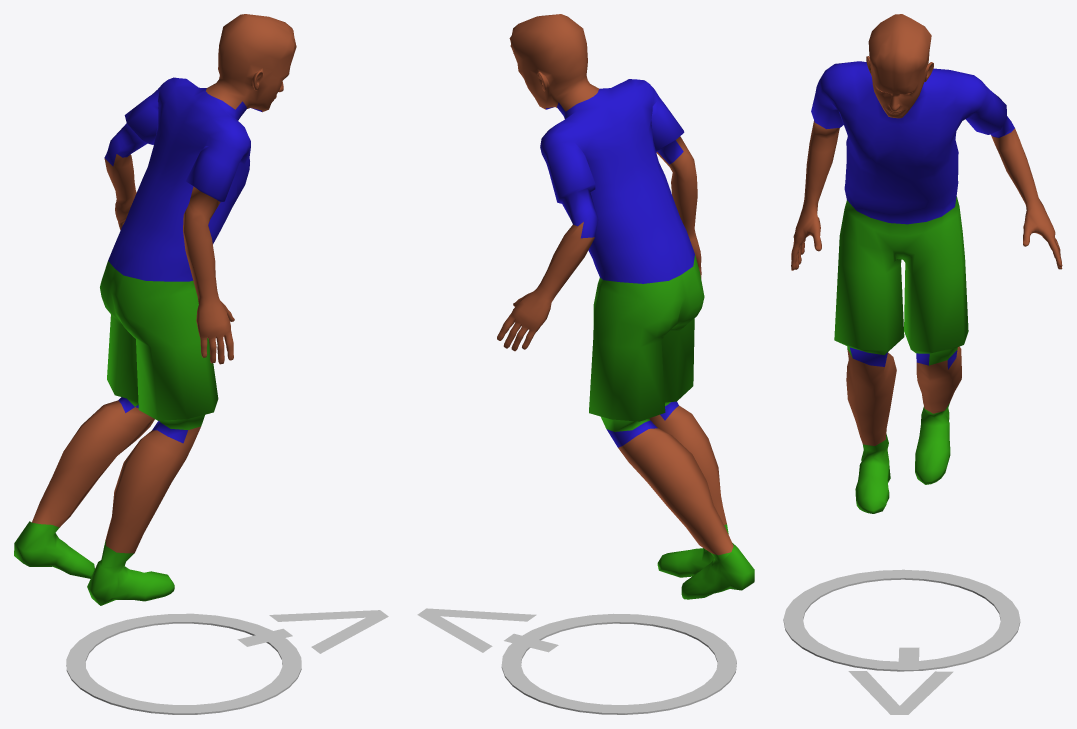
The model's file is playerAI_000005.obj.
The picture shows the model from 3 angles, left to right: view 1: azimuth 30°, elevation 25°; view 2: azimuth 150°, elevation 25°; view 3: azimuth 270°, elevation 25°; orthographic projection.
Visible parts, largest first — view 1: soccerplayer.003_mesh.002, Circle.001, Text_Mesh; view 2: soccerplayer.003_mesh.002, Circle.001, Text_Mesh; view 3: soccerplayer.003_mesh.002, Circle.001, Text_Mesh.
Boxes of the visible parts, x1=… form: soccerplayer.003_mesh.002: x1=14, y1=14, x2=296, y2=605; Circle.001: x1=66, y1=613, x2=301, y2=714; Text_Mesh: x1=237, y1=610, x2=388, y2=653; soccerplayer.003_mesh.002: x1=497, y1=14, x2=754, y2=599; Circle.001: x1=501, y1=613, x2=736, y2=714; Text_Mesh: x1=417, y1=608, x2=558, y2=652; soccerplayer.003_mesh.002: x1=791, y1=14, x2=1062, y2=513; Circle.001: x1=783, y1=569, x2=1020, y2=671; Text_Mesh: x1=848, y1=647, x2=953, y2=714.
Size of the model in its own units: 1.85 by 3.23 by 1.28.
